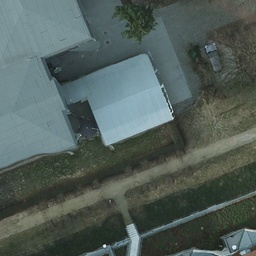car: (205, 43, 225, 73)
